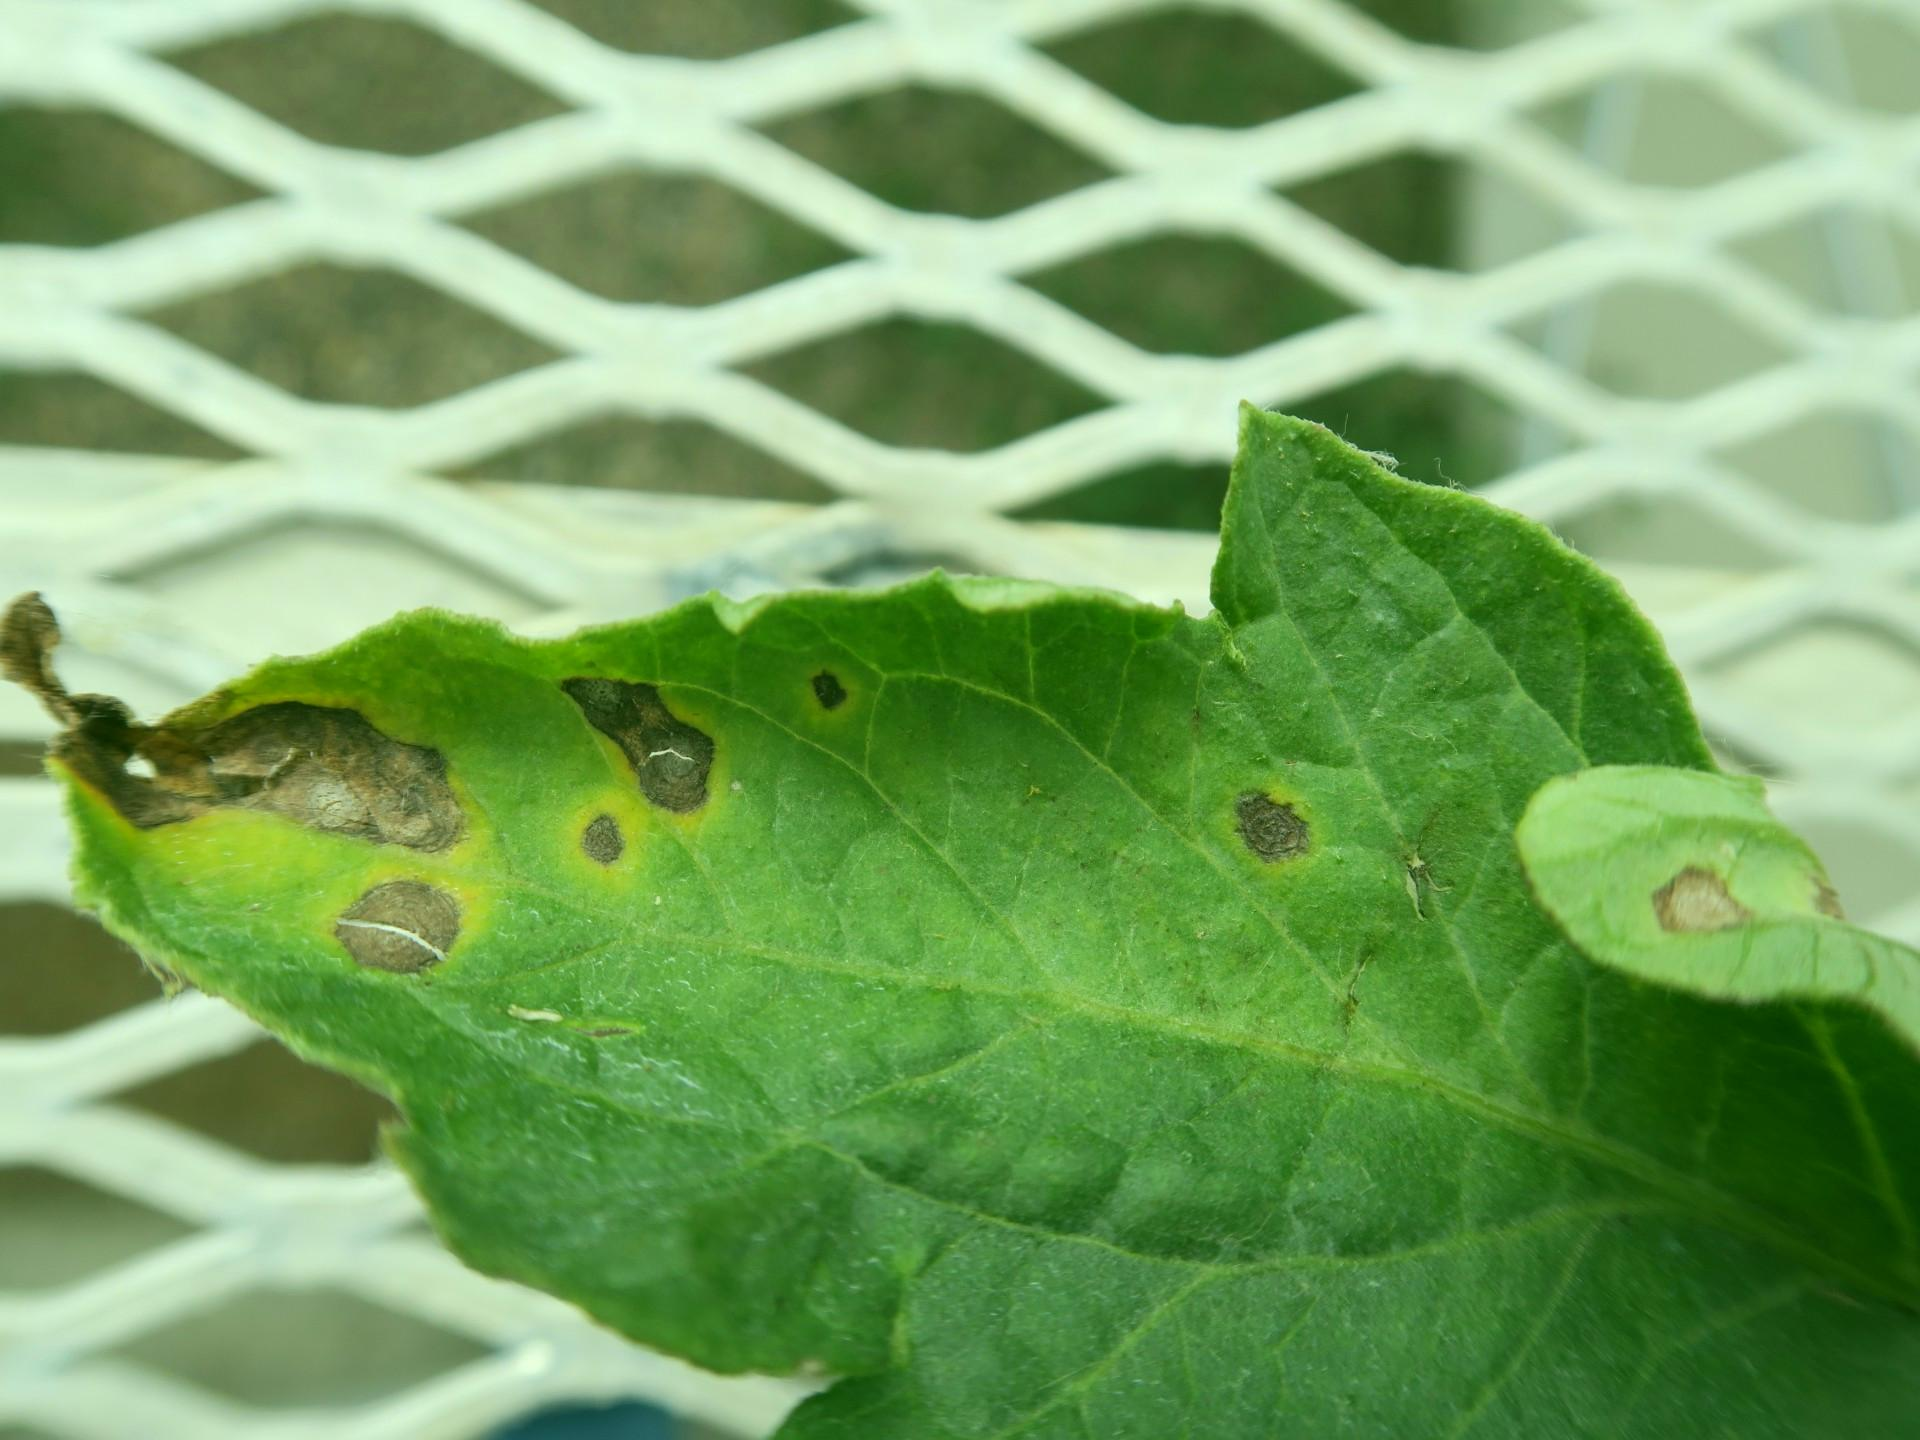Tomato Early blight leaf: (83, 424, 1918, 1401)
